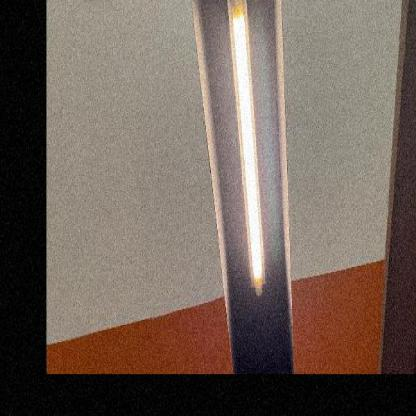light_on: (218, 0, 271, 312)
